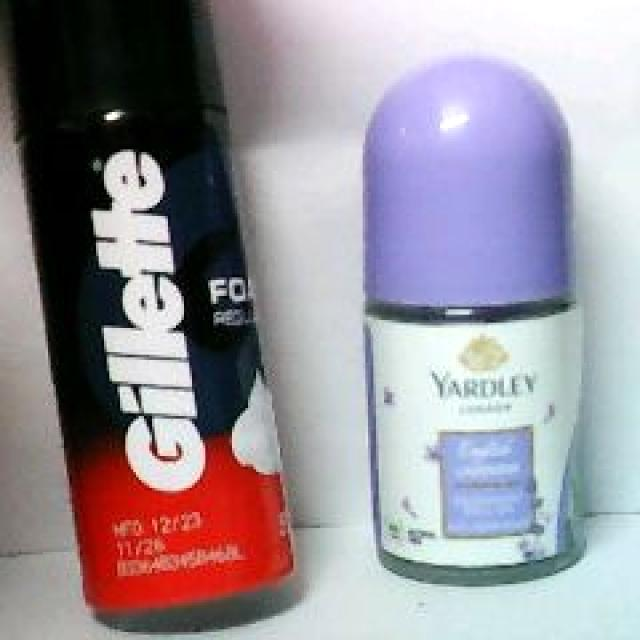gillette-foam: (13, 0, 301, 627)
yardley_rollon: (363, 51, 587, 589)
